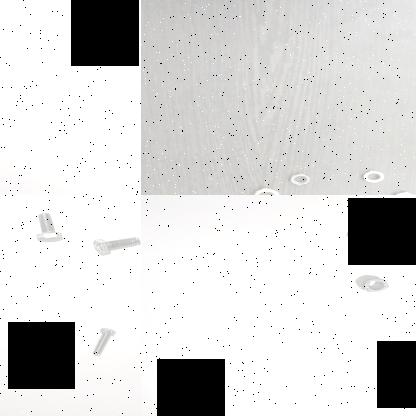Bolts: (24, 210, 64, 246), (87, 233, 141, 257), (81, 326, 120, 358)
NUTS: (357, 230, 401, 254), (358, 277, 388, 297), (284, 172, 314, 186), (360, 170, 388, 184), (248, 185, 282, 195), (386, 191, 415, 195)
